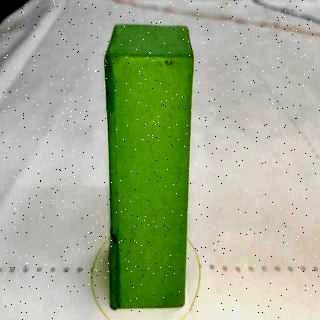greenbox: (103, 22, 196, 308)
